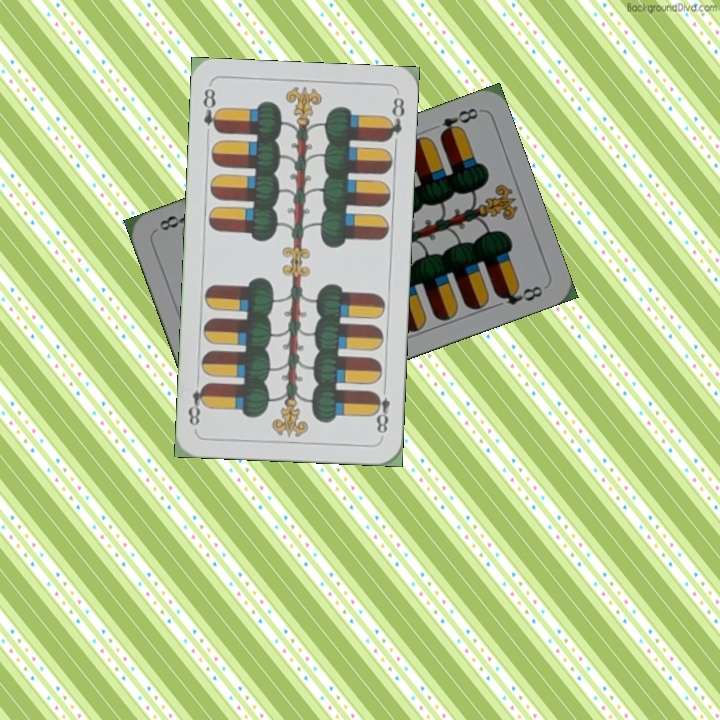E8: (435, 104, 481, 140), (369, 380, 393, 436), (198, 84, 223, 135)
